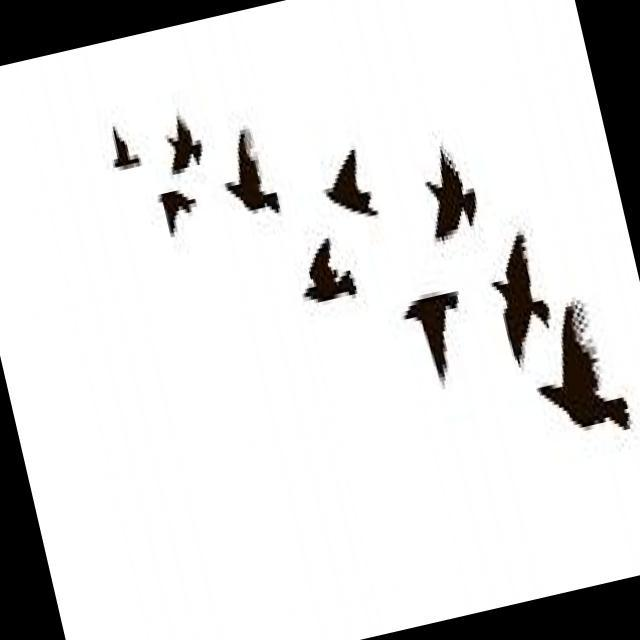bird: (516, 292, 637, 451), (473, 224, 562, 374), (394, 283, 481, 398), (408, 135, 486, 244), (210, 120, 283, 226), (312, 139, 382, 232), (288, 231, 361, 314), (155, 106, 211, 181), (151, 179, 208, 245), (101, 117, 147, 176)
